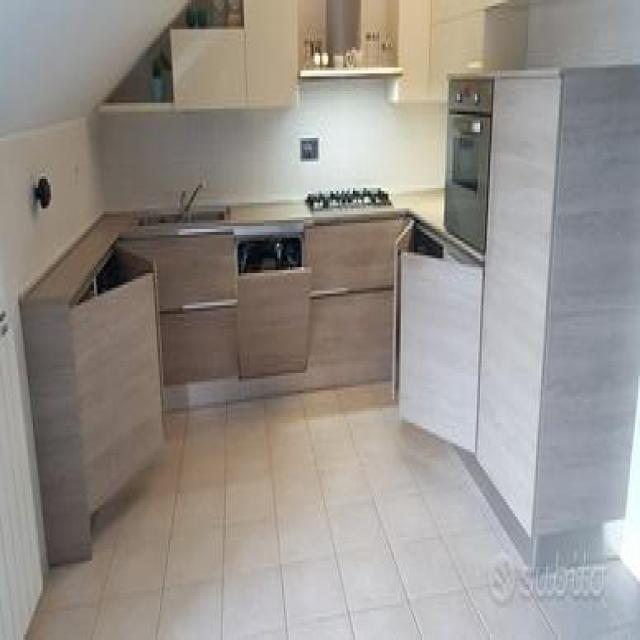dishwasher: (231, 217, 315, 385)
